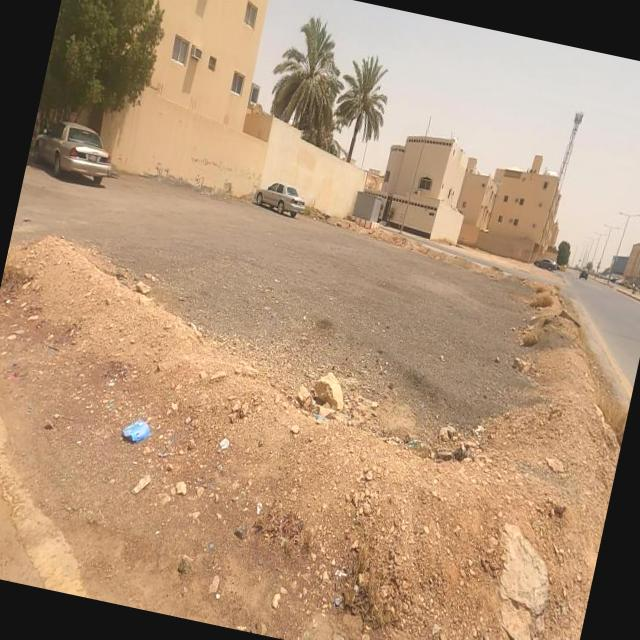debris: (83, 360, 194, 500)
